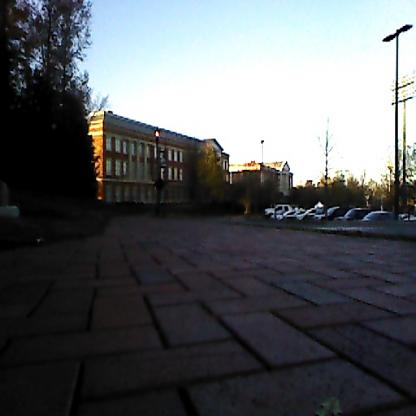Sidewalk: (0, 218, 416, 416)
